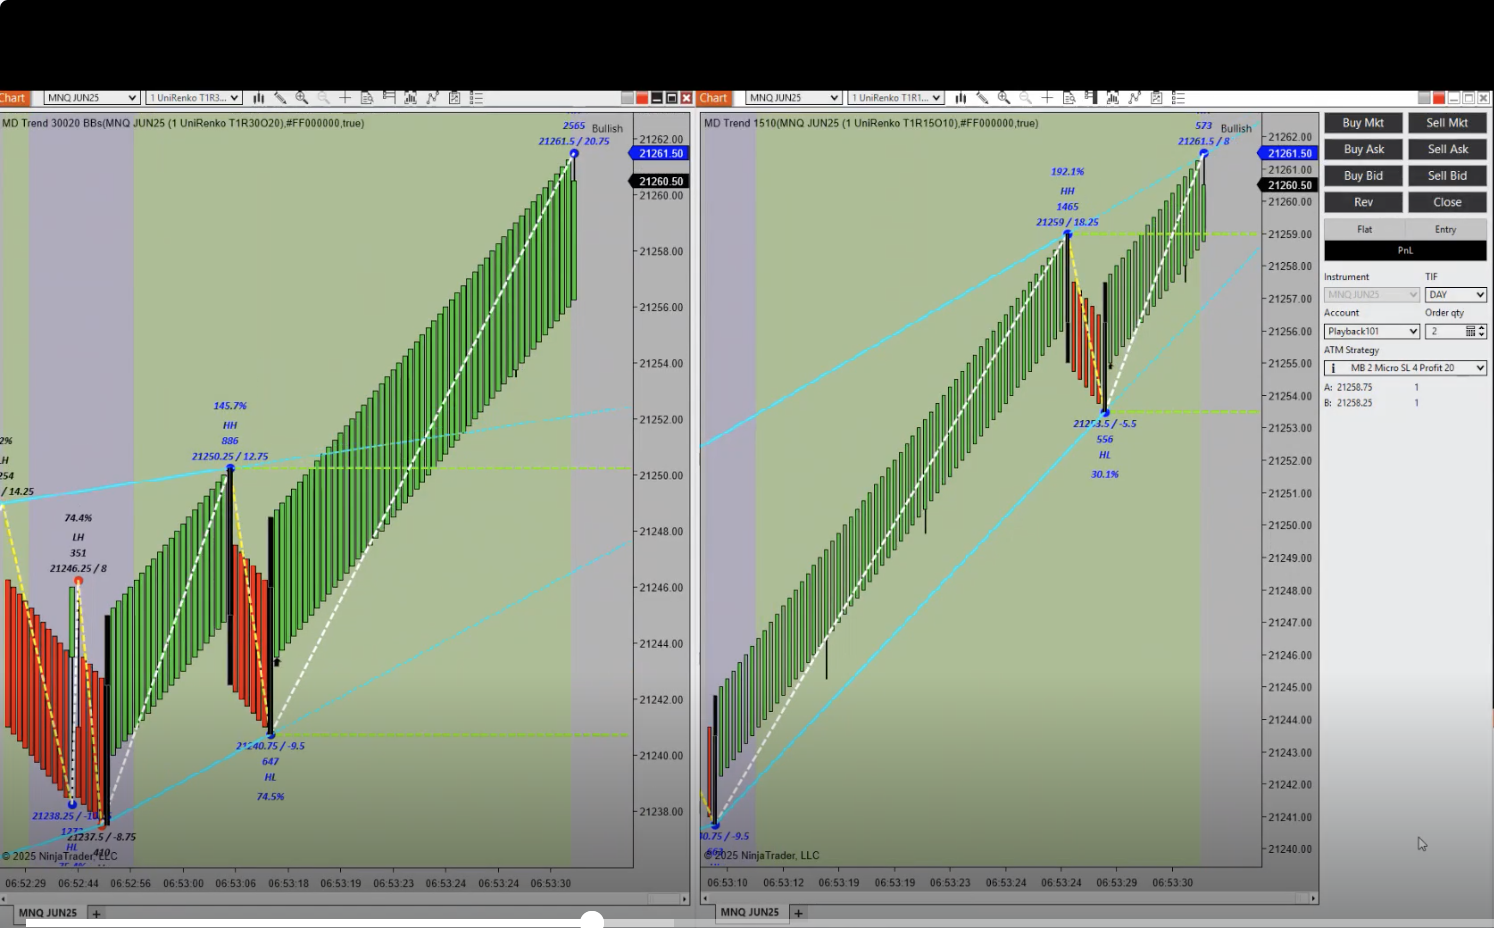candle: (266, 519, 277, 739), (225, 467, 235, 691), (103, 618, 112, 824), (1065, 232, 1071, 372), (713, 696, 716, 830), (1103, 285, 1106, 415)
